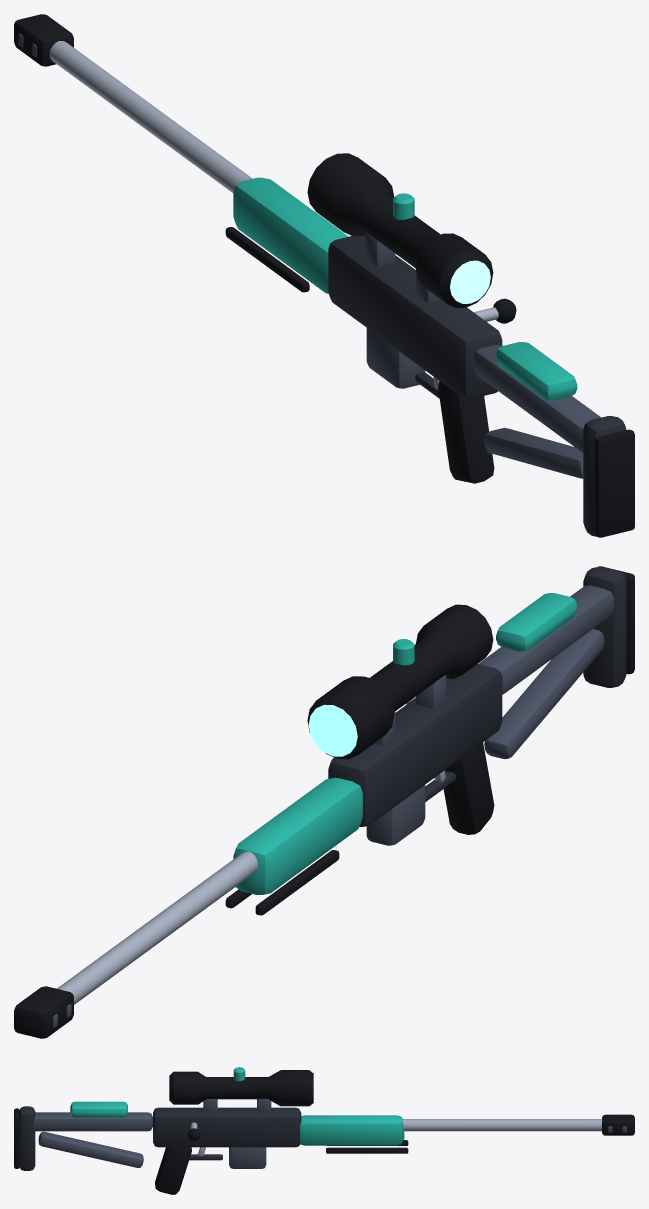
File: longshot.glb
3 renders of one model, top to bottom at view 1: azimuth 30°, elevation 25°; view 2: azimuth 150°, elevation 25°; view 3: azimuth 270°, elevation 25°, orthographic. The views are drawn at different scales.
Parts seen in each view (by area): view 1: longshot; view 2: longshot; view 3: longshot.
Part boxes in pixels (x1,y1,x2,y2): longshot: [14, 14, 634, 537]; longshot: [14, 566, 634, 1038]; longshot: [14, 1067, 634, 1194].
Bounding box in the file's own units: 0.1442 × 0.3334 × 1.51.
